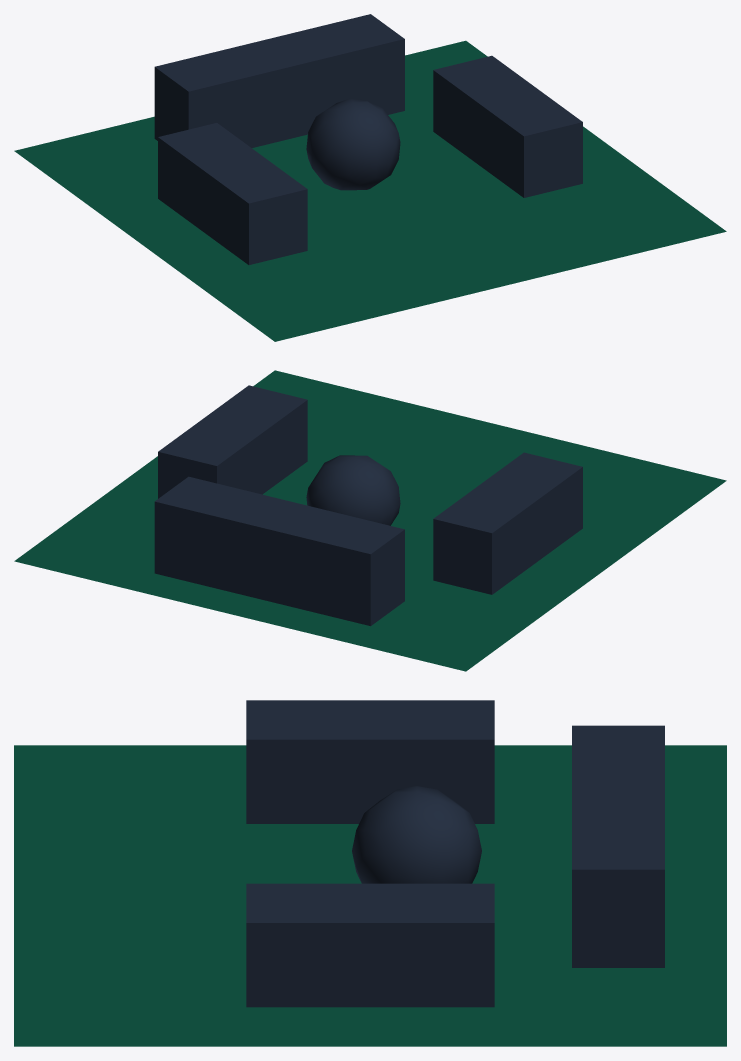
The model's file is nor_07.glb.
3 views of the same model, one above another, from view 1: azimuth 30°, elevation 25°; view 2: azimuth 150°, elevation 25°; view 3: azimuth 270°, elevation 25° (orthographic). The views are drawn at different scales.
Parts seen in each view (by area): view 1: scenario_base_floor, NOR_07; view 2: scenario_base_floor, NOR_07; view 3: scenario_base_floor, NOR_07.
Boxes of the visible parts, bbox=[...] form: scenario_base_floor: bbox=[14, 40, 726, 341]; NOR_07: bbox=[154, 14, 582, 264]; scenario_base_floor: bbox=[14, 370, 726, 671]; NOR_07: bbox=[154, 385, 582, 626]; scenario_base_floor: bbox=[14, 745, 726, 1046]; NOR_07: bbox=[246, 700, 664, 1007].
Bounding box in the file's own units: 46 × 8.4 × 46.
